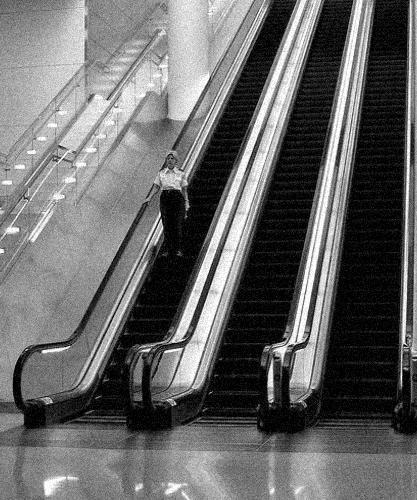Escaleras: (33, 0, 304, 406), (151, 0, 362, 408), (284, 0, 417, 411)
